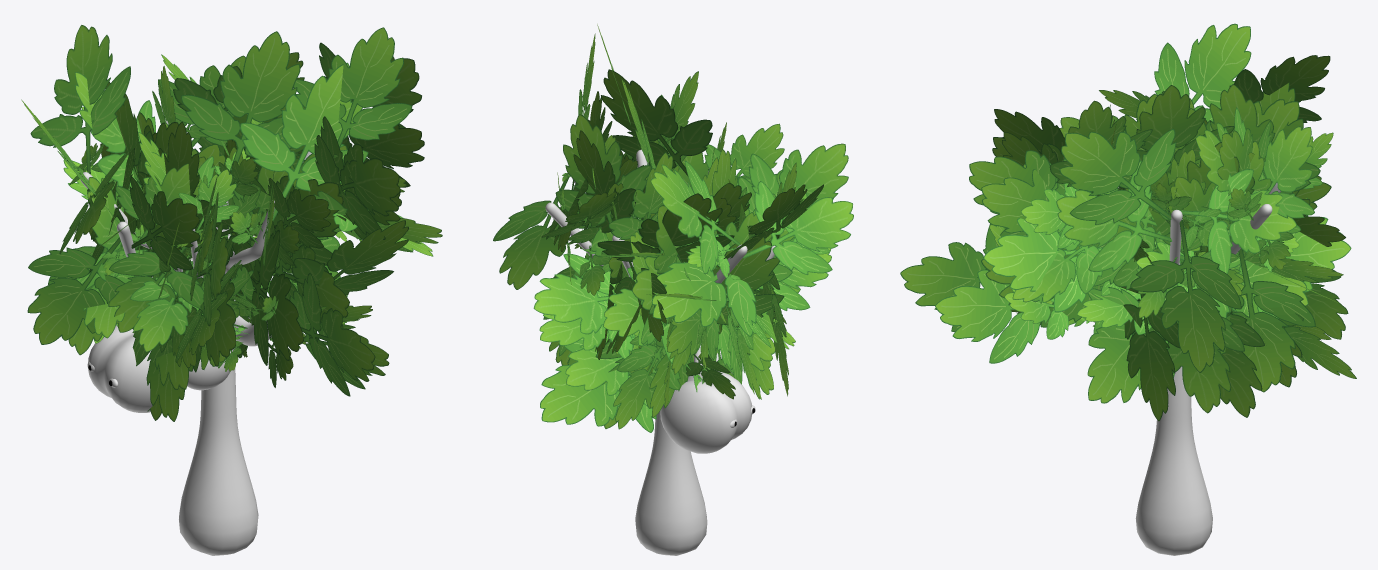
Rendered from cherry_3.fbx.
3 renders of one model, left to right at view 1: azimuth 30°, elevation 25°; view 2: azimuth 150°, elevation 25°; view 3: azimuth 270°, elevation 25°, orthographic. The views are drawn at different scales.
Parts seen in each view (by area): view 1: Cube.259, Vert.028, Sphere.014, Sphere.013; view 2: Cube.259, Vert.028, Sphere.014; view 3: Cube.259, Vert.028.
Part boxes in pixels (left/top/right/bottom): Cube.259: left=21, top=25, right=442, bottom=421; Vert.028: left=80, top=121, right=311, bottom=555; Sphere.014: left=88, top=325, right=152, bottom=412; Sphere.013: left=187, top=350, right=232, bottom=390; Cube.259: left=493, top=24, right=853, bottom=432; Vert.028: left=545, top=149, right=775, bottom=555; Sphere.014: left=660, top=371, right=752, bottom=453; Cube.259: left=900, top=23, right=1356, bottom=421; Vert.028: left=1093, top=183, right=1280, bottom=555.
Size of the model in its own units: 276 by 416 by 348.
